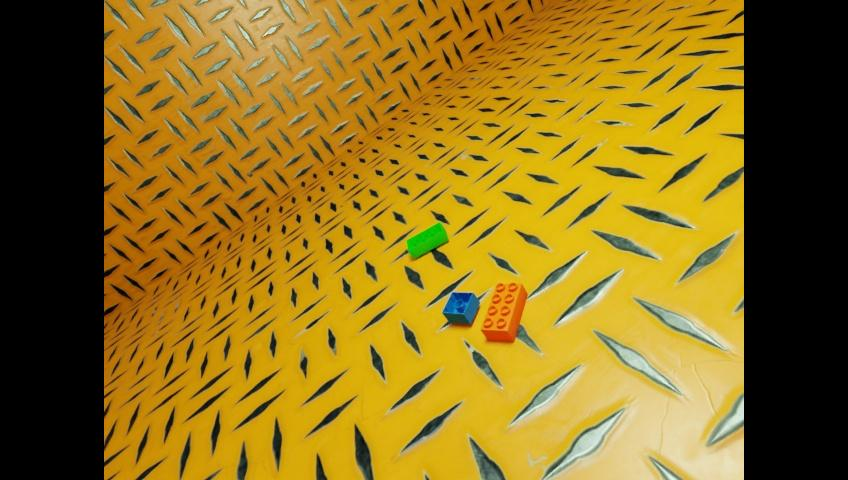2x2_blue: (441, 291, 479, 324)
4x2_green: (407, 221, 447, 258)
4x2_orange: (480, 282, 527, 341)
